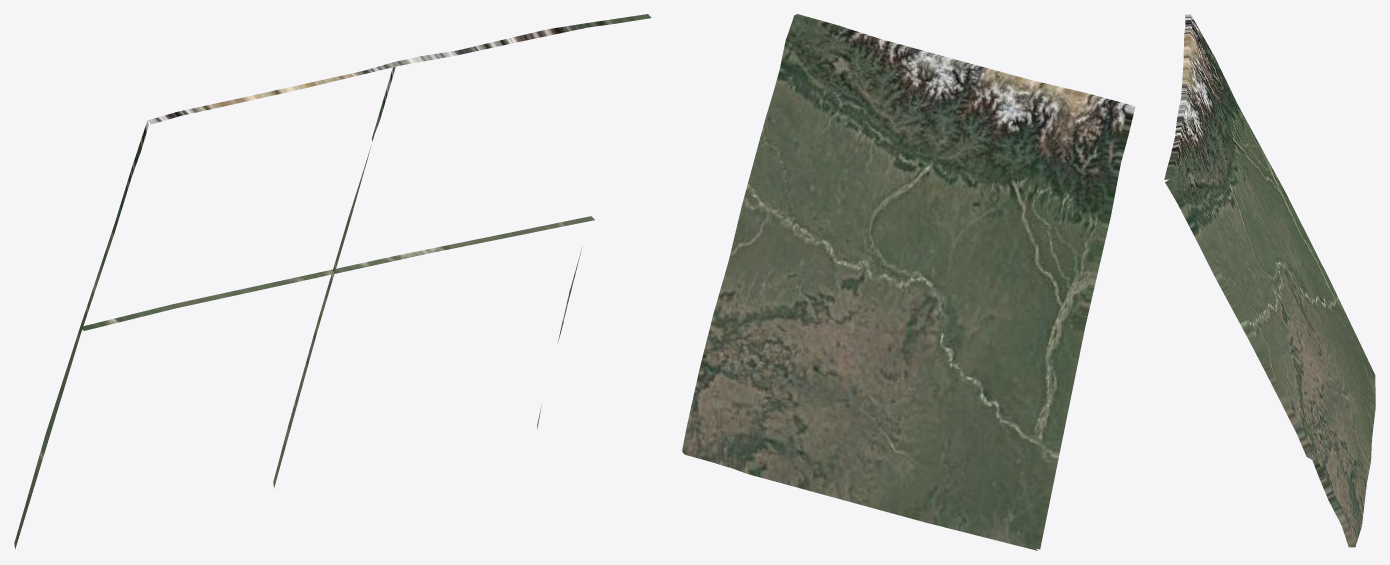
3 renders of one model, left to right at view 1: azimuth 30°, elevation 25°; view 2: azimuth 150°, elevation 25°; view 3: azimuth 270°, elevation 25°, orthographic. The views are drawn at different scales.
Bounding box in the file's own units: 584918 × 574790 × 300909.
Materials: 1 (1 with a texture image).
